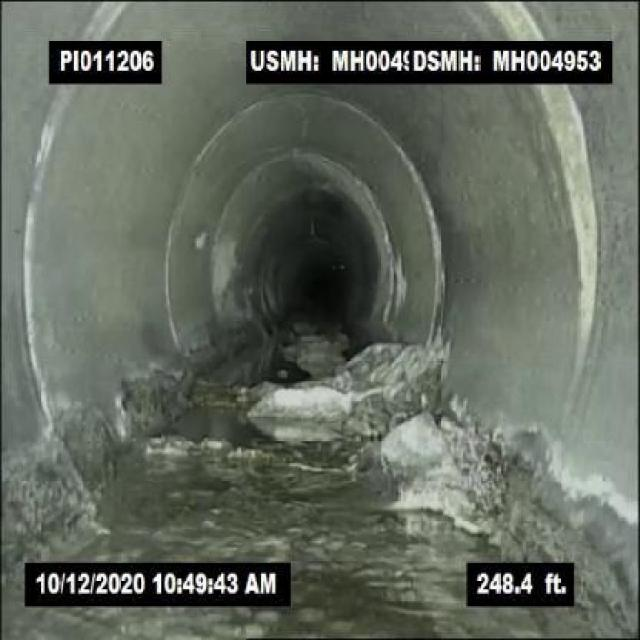Joint offset: (538, 88, 604, 354)
Obstacle: (246, 343, 442, 422), (382, 410, 484, 528)
